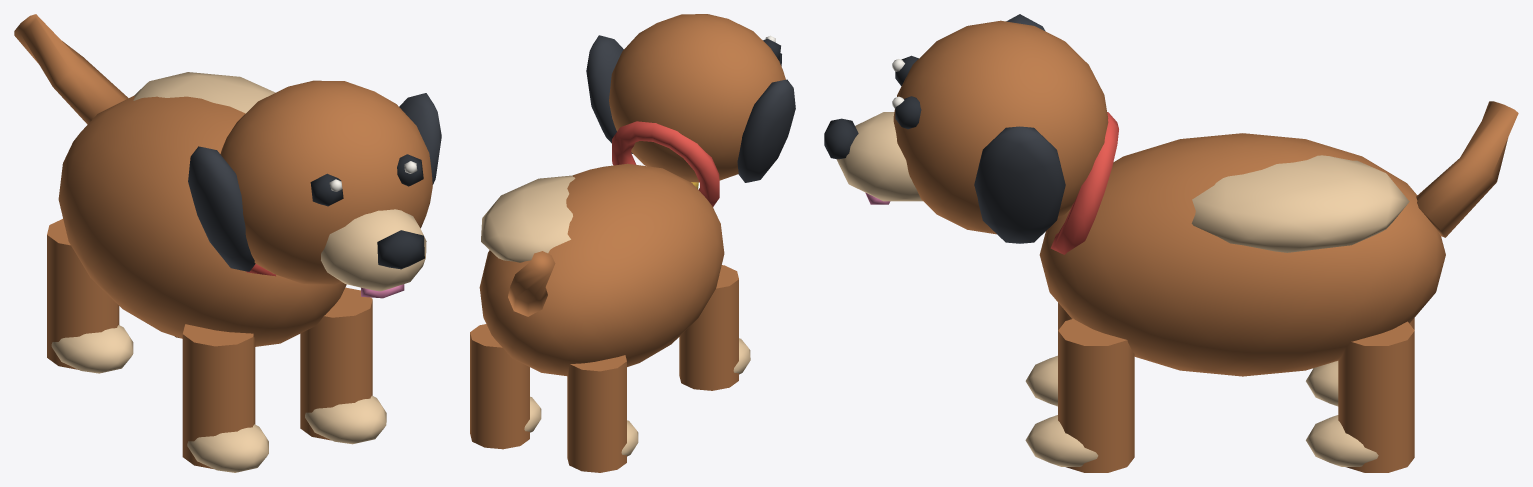
Rendered from pet-cachorro.glb.
3 renders of one model, left to right at view 1: azimuth 30°, elevation 25°; view 2: azimuth 150°, elevation 25°; view 3: azimuth 270°, elevation 25°, orthographic. The views are drawn at different scales.
Visible parts, largest first — view 1: corpo, cabeca, rabo; view 2: corpo, cabeca, rabo; view 3: corpo, cabeca, rabo.
Boxes of the visible parts, box(x1,y1,x2,y2) form: corpo: box(47, 72, 386, 472); cabeca: box(188, 80, 441, 298); rabo: box(14, 14, 128, 124); corpo: box(470, 121, 750, 472); cabeca: box(586, 14, 795, 182); rabo: box(508, 251, 555, 316); corpo: box(1025, 112, 1445, 472); cabeca: box(824, 14, 1108, 243); rabo: box(1416, 101, 1518, 237).
Bounding box in the file's own units: 0.4466 × 0.6946 × 1.09.
